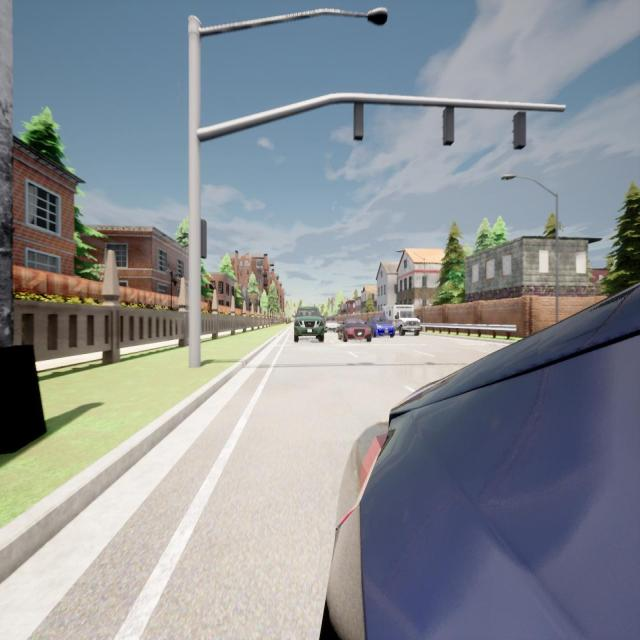Vehicle: (326, 284, 640, 638), (381, 305, 421, 336), (292, 306, 325, 342), (338, 318, 372, 342), (367, 315, 395, 338), (324, 317, 338, 332)
traffic_light: (512, 109, 526, 151), (442, 105, 454, 146), (354, 101, 363, 141)
